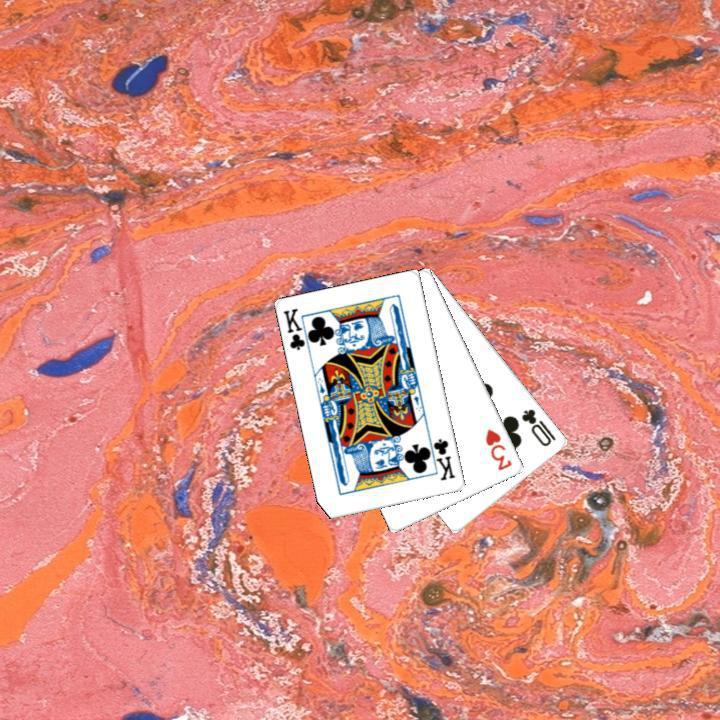10: (517, 404, 558, 449)
3: (481, 425, 514, 473)
K: (279, 304, 313, 355), (424, 432, 457, 483)
